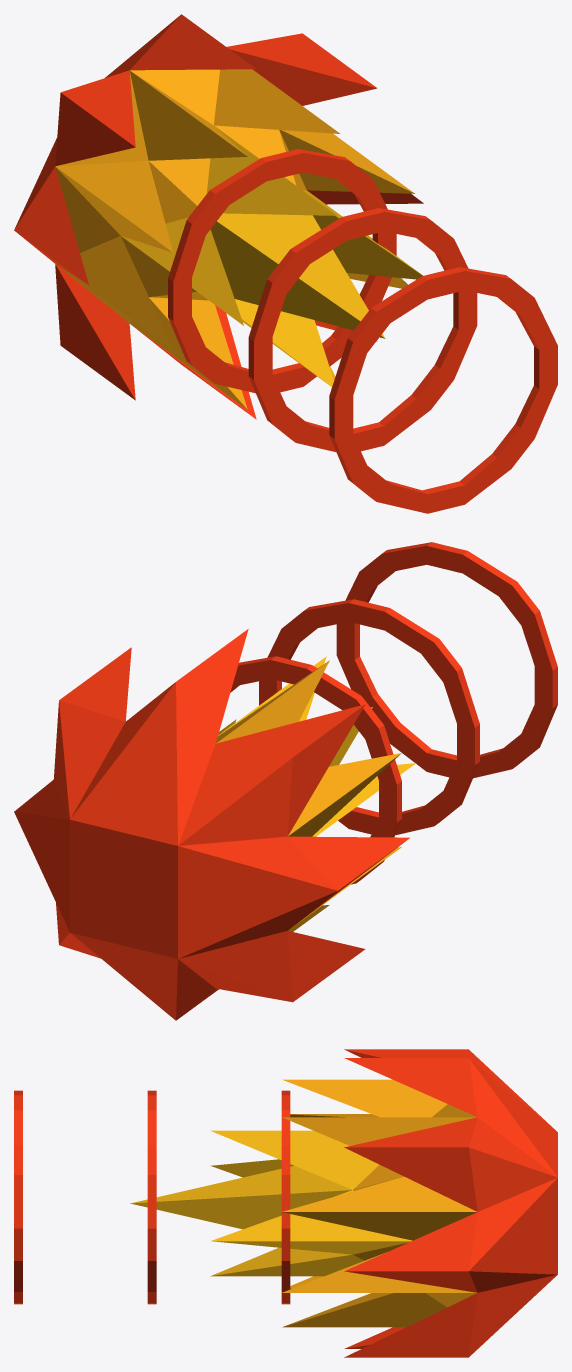
The model's file is gfx_165.obj.
3 renders of one model, top to bottom at view 1: azimuth 30°, elevation 25°; view 2: azimuth 150°, elevation 25°; view 3: azimuth 270°, elevation 25°, orthographic. The views are drawn at different scales.
Bounding box in the file's own units: 0.5625 × 0.5625 × 0.9531.
